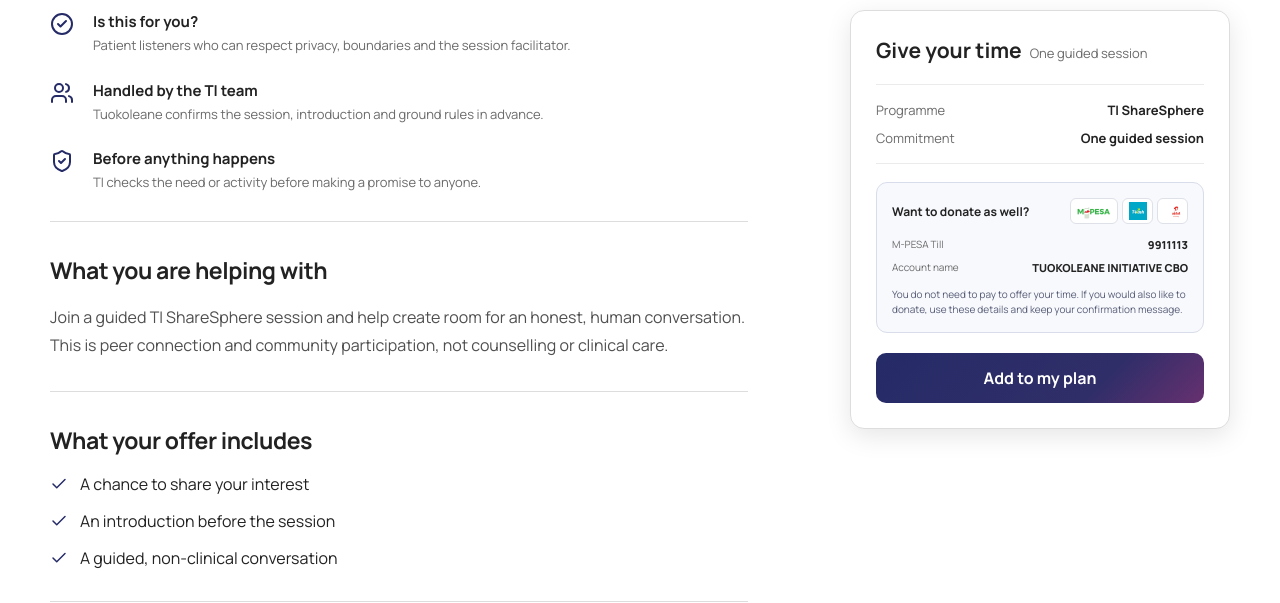
Test: Tuokoleane kindness marketplace › submits a time offer without asking for M-PESA details
(page scrolled)
Click the button "Add to my plan".
click(1040, 378)  # box [876, 353, 1204, 403]
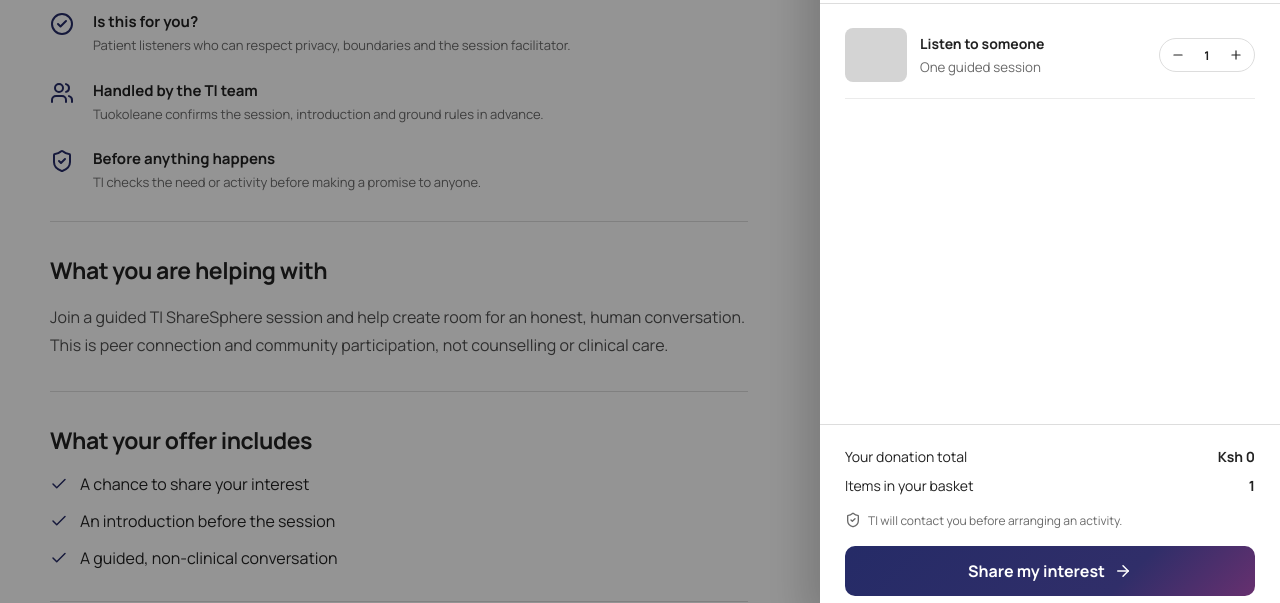
Click the button "Share my interest".
click(1050, 571)  # box [845, 546, 1255, 596]
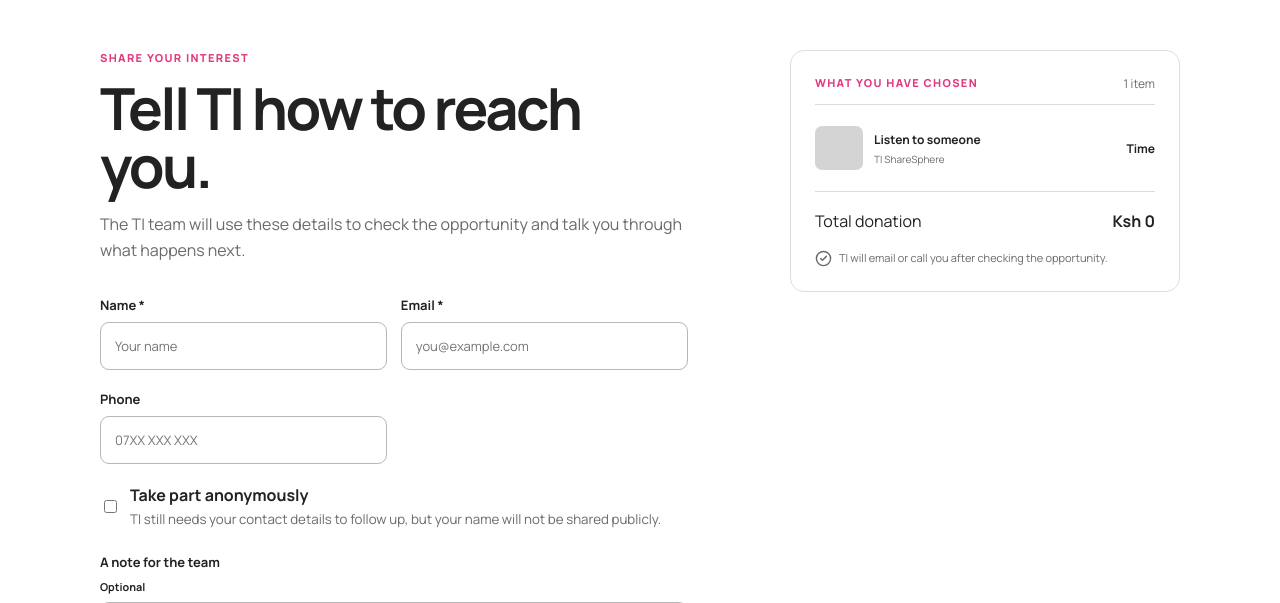
Type "David Volunteer" into the field labelled "Name *".
click(243, 346); type("David Volunteer")  # box [100, 322, 387, 370]
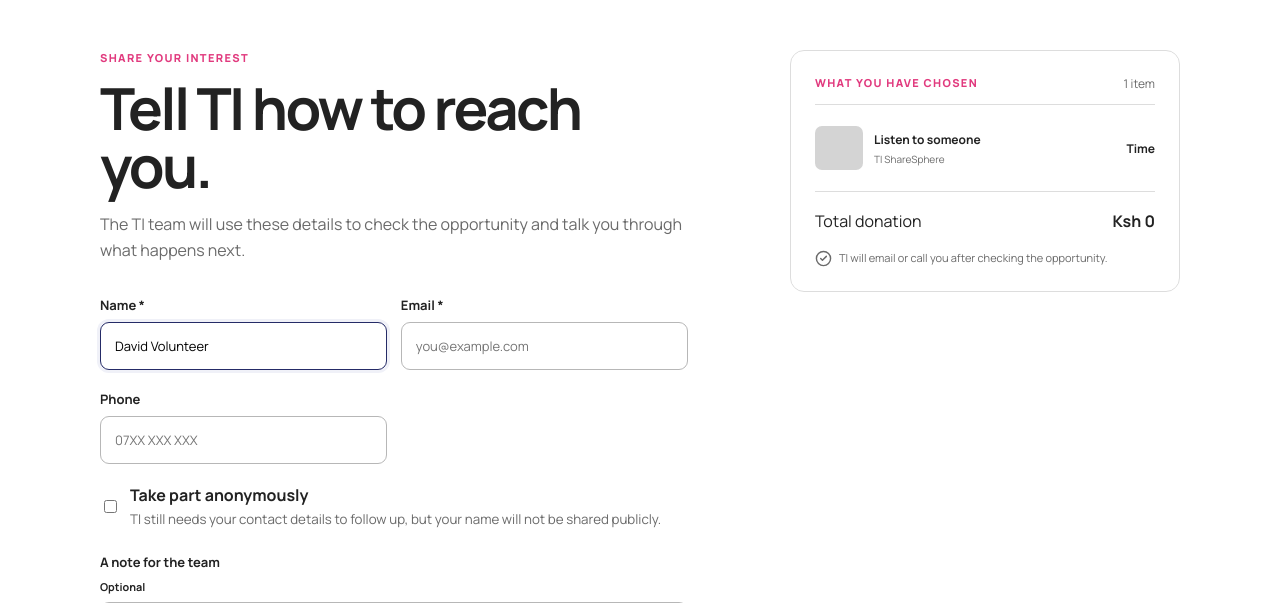
Type "david@example.com" into the field labelled "Email *".
click(544, 346); type("david@example.com")  # box [401, 322, 688, 370]
(page scrolled)
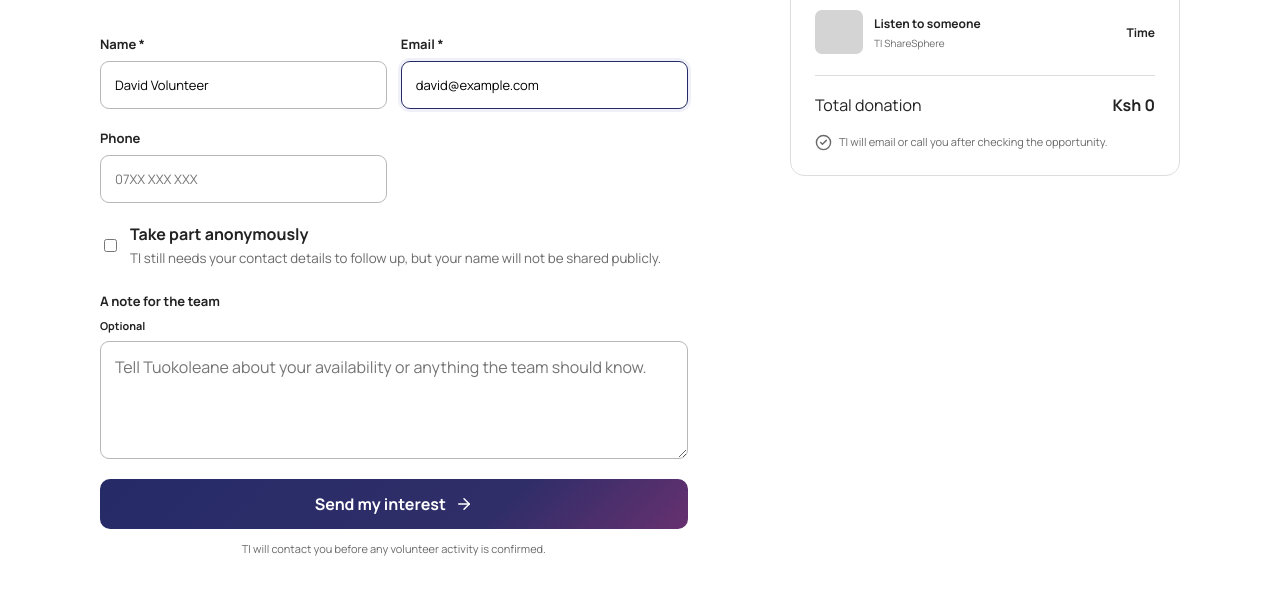
Click the button "Send my interest".
click(394, 504)  # box [100, 479, 688, 529]
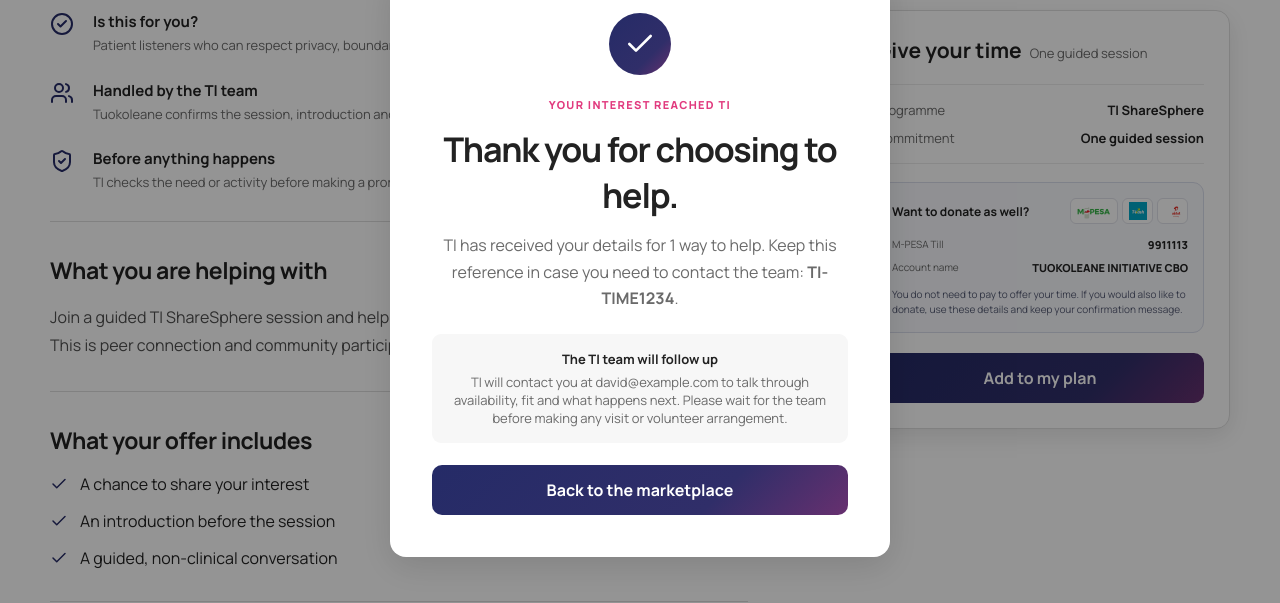
Expected: the text "Your interest reached TI" is shown, [549, 97, 731, 112]
